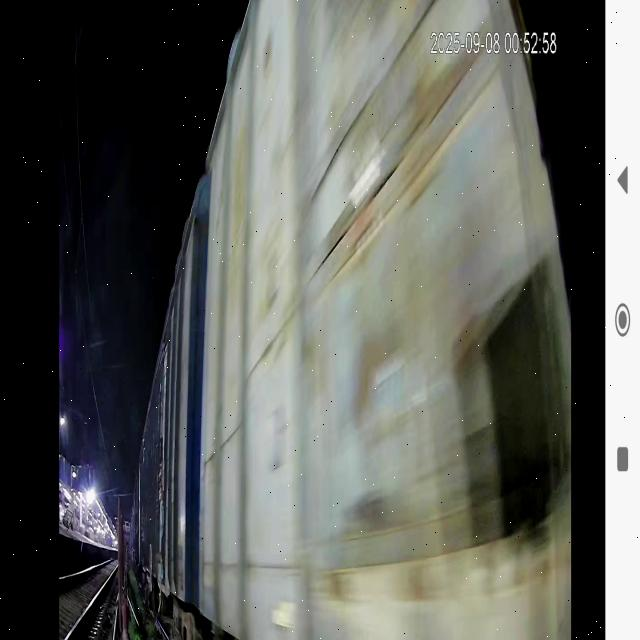coach: (208, 4, 639, 640)
